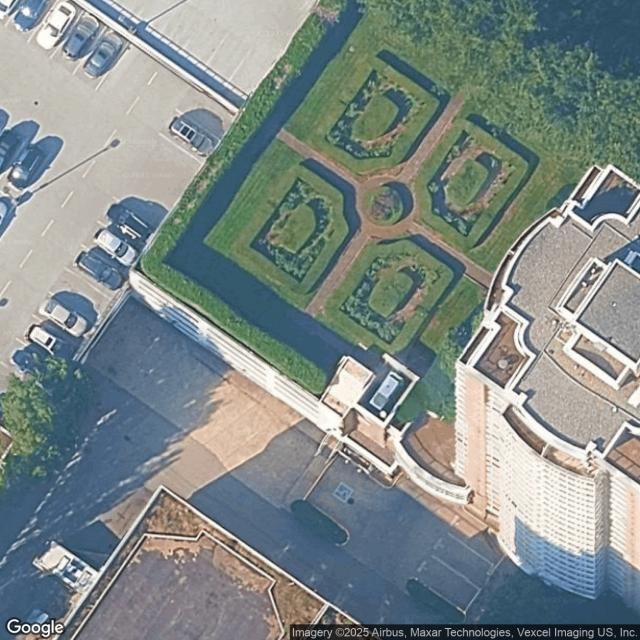car: (105, 198, 157, 247), (72, 248, 128, 293), (22, 318, 74, 365), (39, 295, 93, 340), (91, 223, 141, 270), (81, 29, 128, 79), (166, 115, 219, 158), (59, 9, 102, 62), (34, 1, 79, 51), (5, 139, 49, 189), (14, 344, 61, 387), (12, 0, 57, 33)
lot_boundary: (0, 0, 321, 440)
stall: (51, 8, 108, 73), (75, 24, 131, 89), (35, 290, 98, 345), (27, 0, 84, 57), (68, 244, 128, 298), (52, 267, 112, 321), (5, 337, 65, 390), (20, 316, 79, 369), (177, 90, 238, 141), (126, 159, 187, 210), (144, 136, 205, 187), (161, 113, 221, 164), (81, 223, 142, 273), (101, 200, 158, 251), (3, 135, 53, 191), (116, 181, 171, 231), (0, 358, 48, 409), (206, 32, 253, 81), (184, 16, 231, 65), (226, 49, 276, 95), (6, 0, 61, 41), (161, 3, 206, 50), (138, 0, 187, 34), (0, 120, 30, 175)
